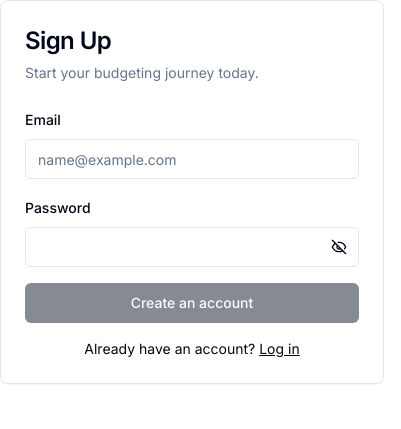
Test: Signup form › displays a message if the password is too short
The width and height of the screenshot is (401, 429).
Type "short" into the password field labelled "Password" at (192, 247), box [25,227,359,267]
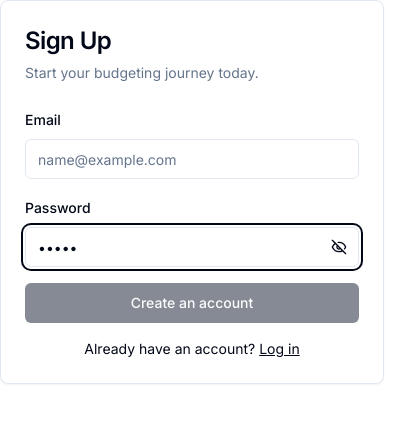
Press Tab
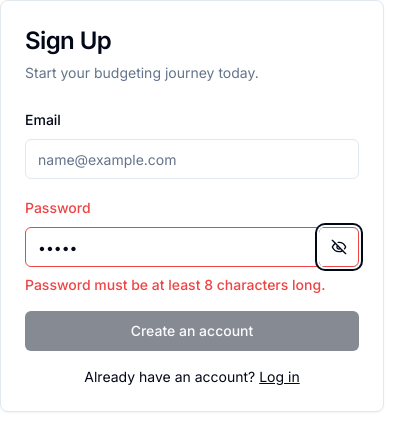
Result: the text "Password must be at least 8 characters long." is shown at [25,275,359,295]
